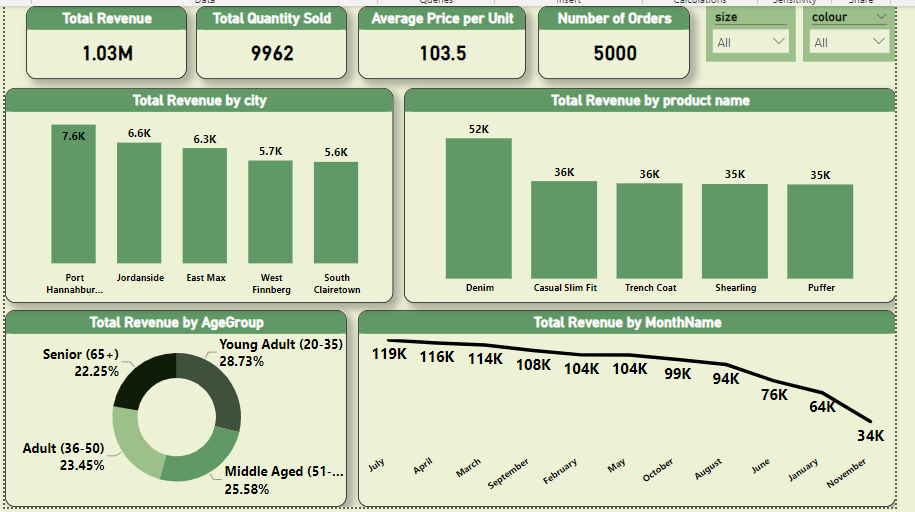

This screenshot's page, from the dashboard's own definition file:
{"tool":"powerbi","page":{"name":"Page 1","canvas":[1280,720],"ordinal":0},"visuals":[{"type":"card","title":"Total Revenue","fields":{"Values":["DAX.Total Revenue"]},"box":[30.2,0,231.4,104.9],"z":0},{"type":"card","title":"Total Quantity Sold","fields":{"Values":["DAX.Total Quantity Sold"]},"box":[274.5,0,217,104.9],"z":1000},{"type":"card","title":"Average Price per Unit","fields":{"Values":["DAX.Average Price per Unit"]},"box":[507.3,0,241.4,104.9],"z":2000},{"type":"card","title":"Number of Orders","fields":{"Values":["DAX.Number of Orders"]},"box":[766,0,218.4,104.9],"z":3000},{"type":"donutChart","fields":{"Category":["Dim_Customers.AgeGroup"],"Y":["DAX.Total Revenue"]},"box":[0,436.9,491.5,283.1],"z":4000},{"type":"lineChart","fields":{"Category":["Dim_Date.MonthName"],"Y":["DAX.Total Revenue"]},"box":[507.3,436.9,773.2,283.1],"z":5000},{"type":"columnChart","fields":{"Category":["Dim_Customers.city"],"Y":["DAX.Total Revenue"]},"box":[0,117.8,557.6,309],"z":6000},{"type":"columnChart","title":"Total Revenue by product name","fields":{"Category":["Dim_Products.product_name"],"Y":["DAX.Total Revenue"]},"box":[573.4,117.8,707.1,309],"z":7000},{"type":"slicer","fields":{"Values":["Dim_Products.size"]},"box":[1007.4,0,129.3,80.5],"z":8000},{"type":"slicer","fields":{"Values":["Dim_Products.colour"]},"box":[1146.8,0,133.7,80.5],"z":9000}]}

Visuals, with their boxes on the page's 1280x720 design canvas (x1, y1, x2, y2). These are canvas units, not pixel positions in the 915x512 screenshot, which may show the page scaled, cropped or inside an application window:
"Total Revenue" card: rect(30, 0, 262, 105)
"Total Quantity Sold" card: rect(274, 0, 492, 105)
"Average Price per Unit" card: rect(507, 0, 749, 105)
"Number of Orders" card: rect(766, 0, 984, 105)
donutChart - Dim_Customers.AgeGroup x DAX.Total Revenue: rect(0, 437, 492, 720)
lineChart - Dim_Date.MonthName x DAX.Total Revenue: rect(507, 437, 1280, 720)
columnChart - Dim_Customers.city x DAX.Total Revenue: rect(0, 118, 558, 427)
"Total Revenue by product name" columnChart: rect(573, 118, 1280, 427)
slicer - Dim_Products.size: rect(1007, 0, 1137, 80)
slicer - Dim_Products.colour: rect(1147, 0, 1280, 80)
